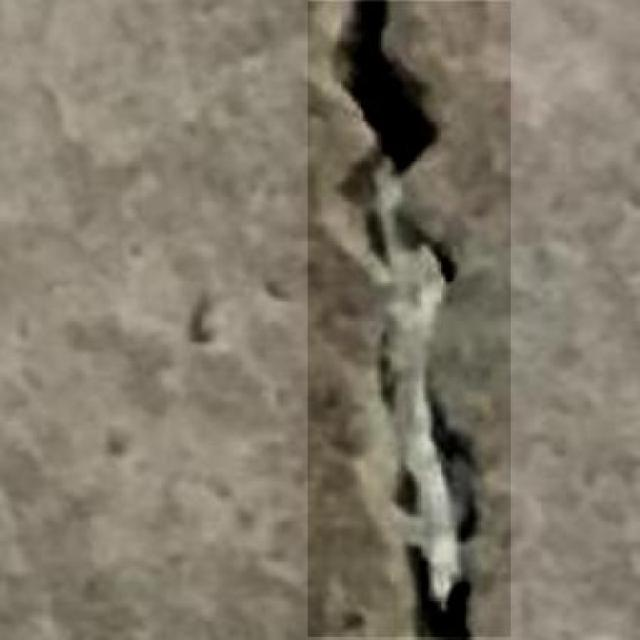Crack: (316, 0, 466, 176), (370, 485, 499, 640)
